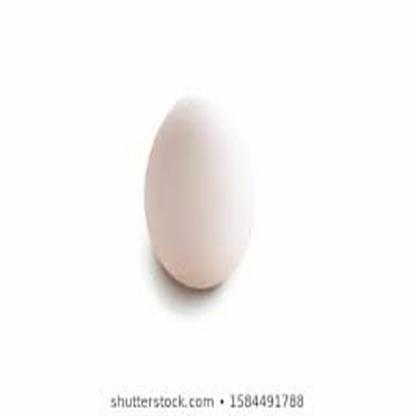egg: (142, 86, 258, 296)
